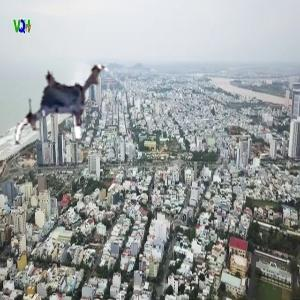drone: (5, 46, 122, 163)
